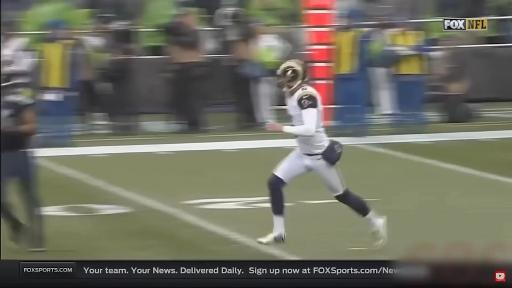Helmet: (277, 60, 307, 91)
Jersey: (287, 86, 329, 154), (0, 94, 34, 152)
Player: (258, 60, 386, 247), (0, 72, 44, 251)
